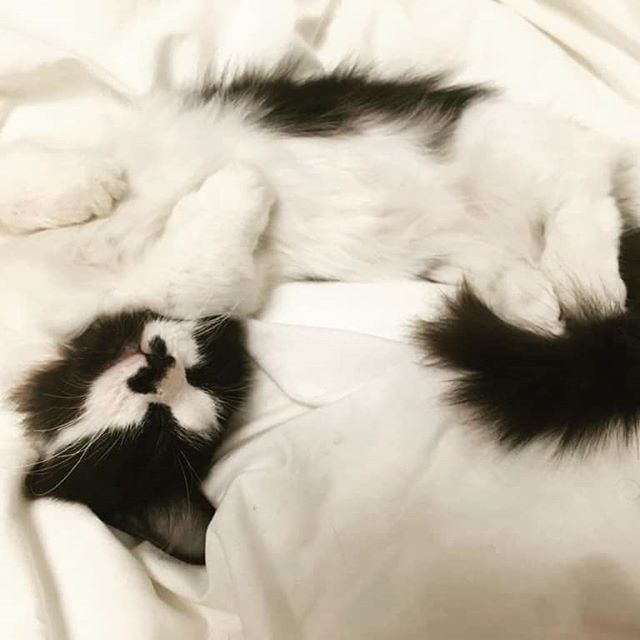cat: (23, 284, 265, 555)
